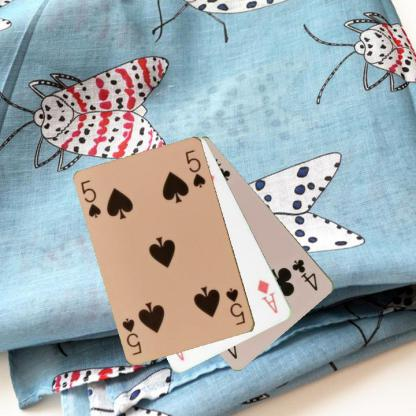4c: (290, 256, 320, 292)
5s: (78, 178, 103, 220), (224, 285, 246, 327)
Ad: (255, 277, 280, 315)
